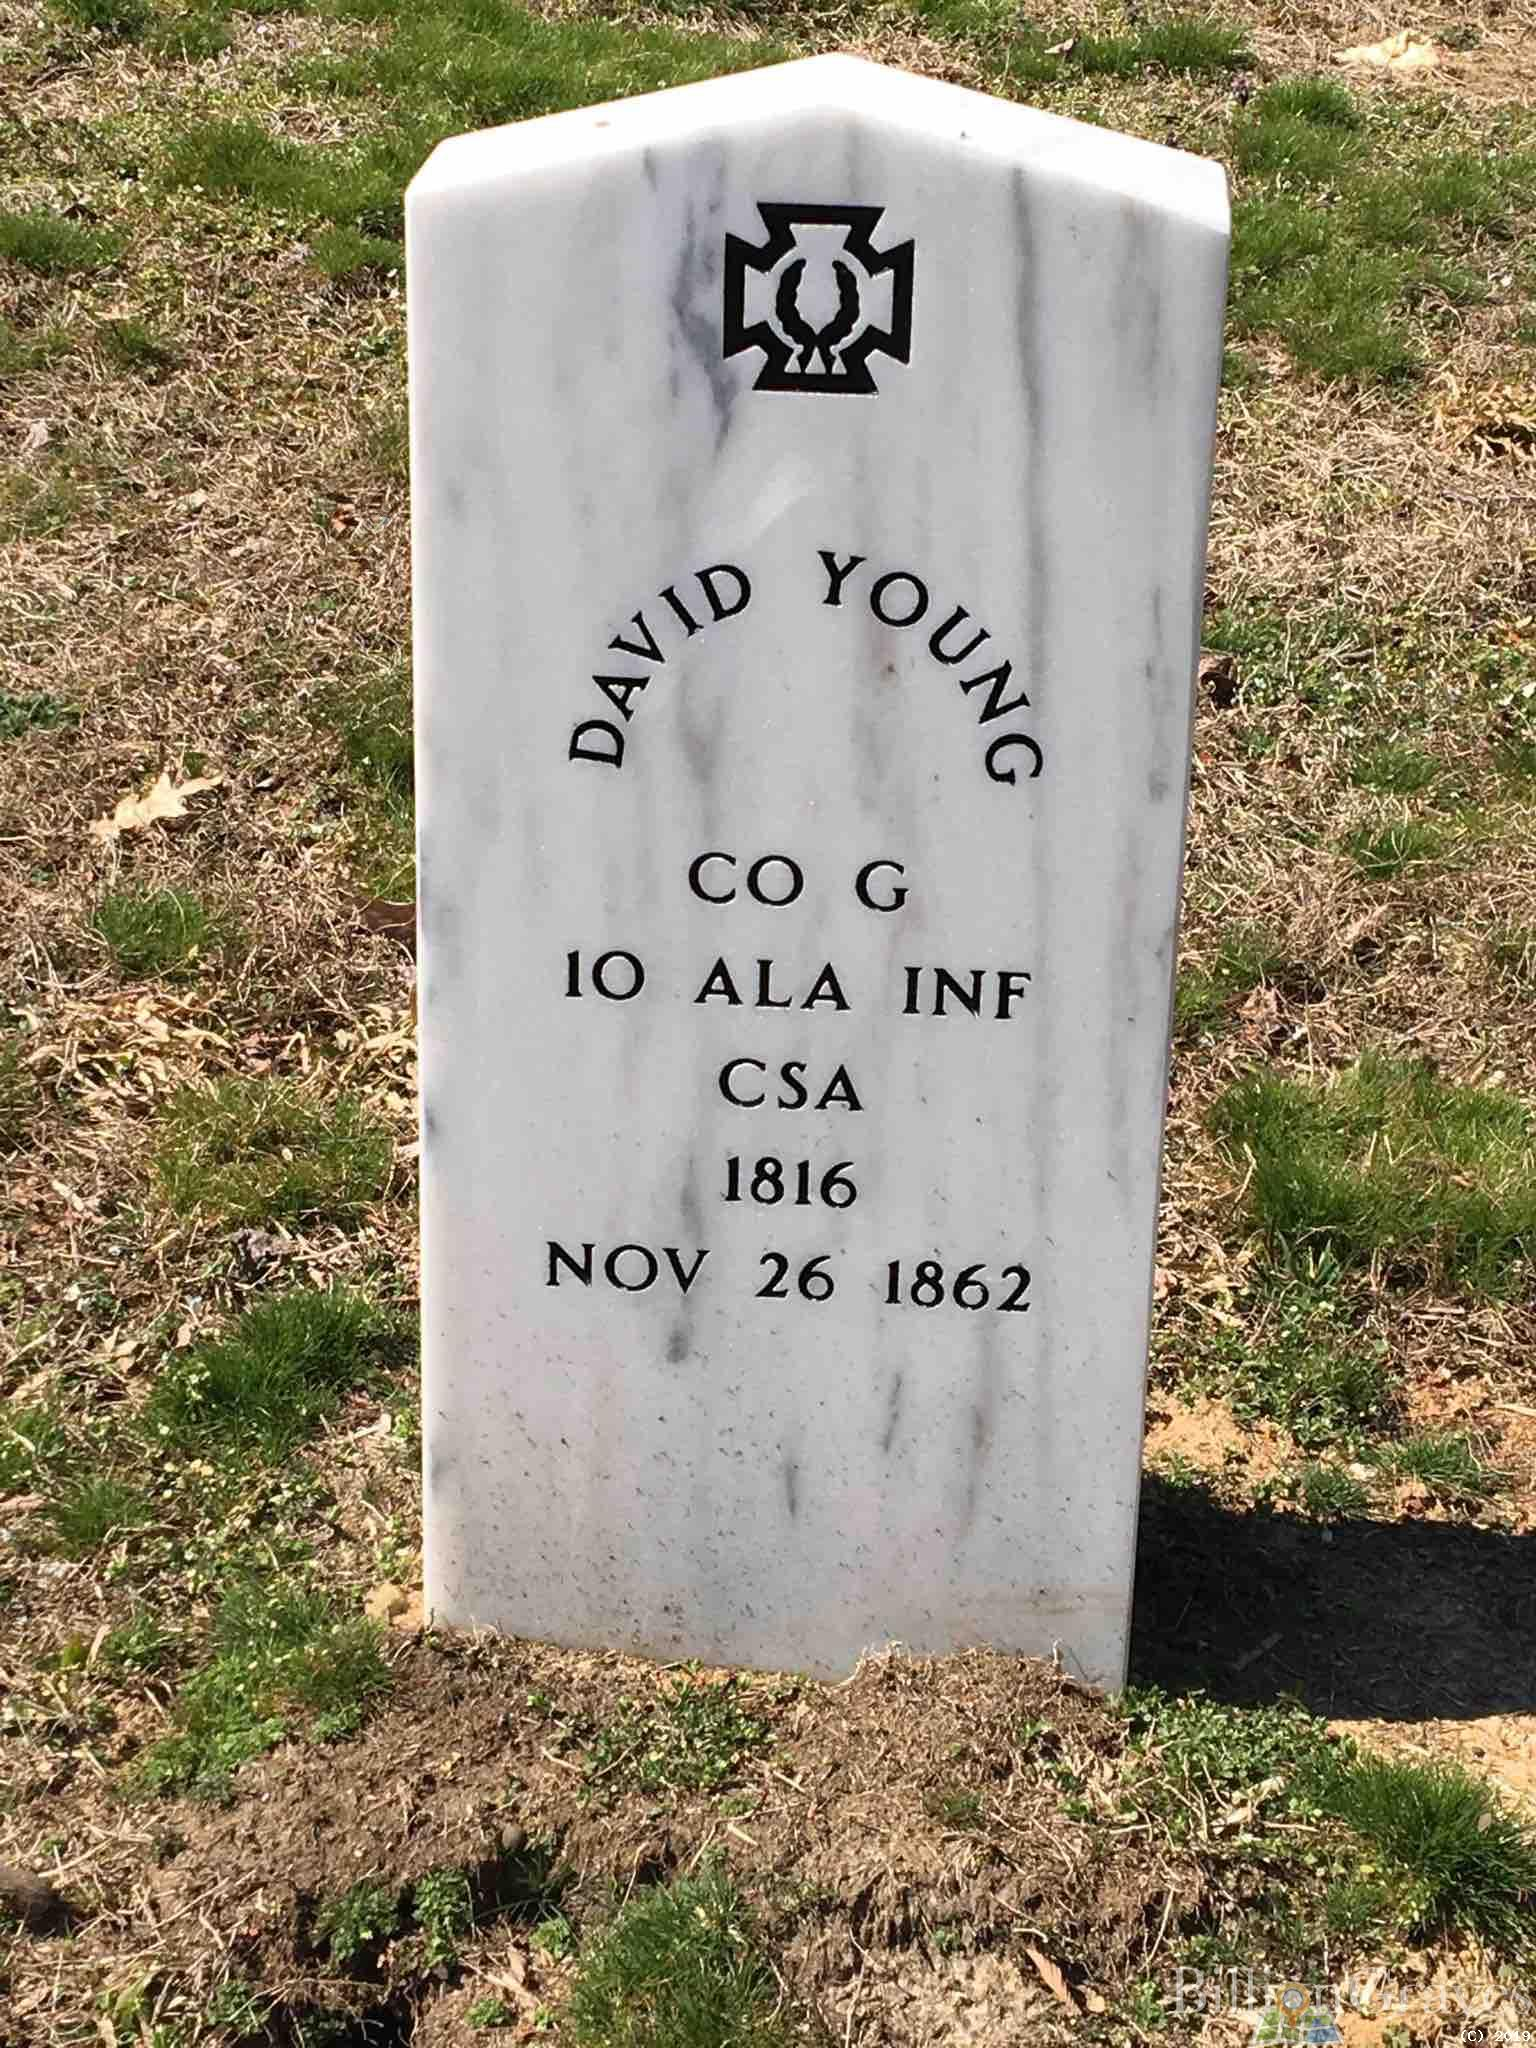military: (413, 56, 1231, 1701)
